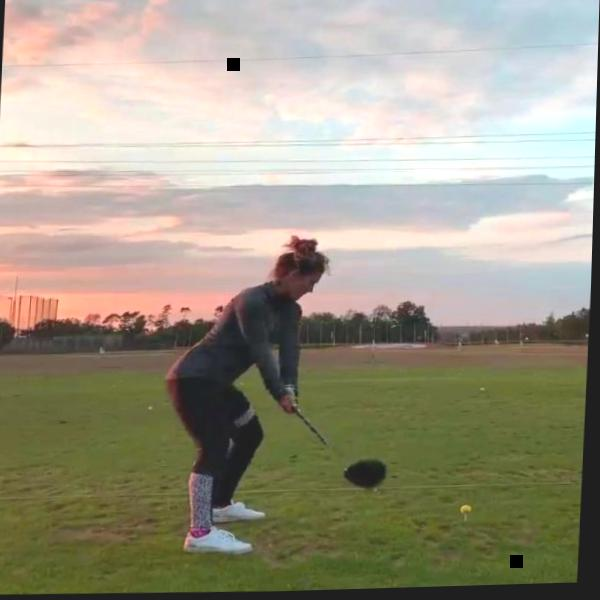ClubHead: (350, 459, 389, 495)
GolfBall: (463, 508, 476, 518)
